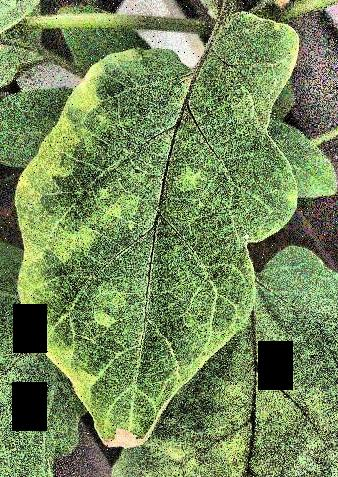Non-critical Stress: (1, 0, 338, 477)
